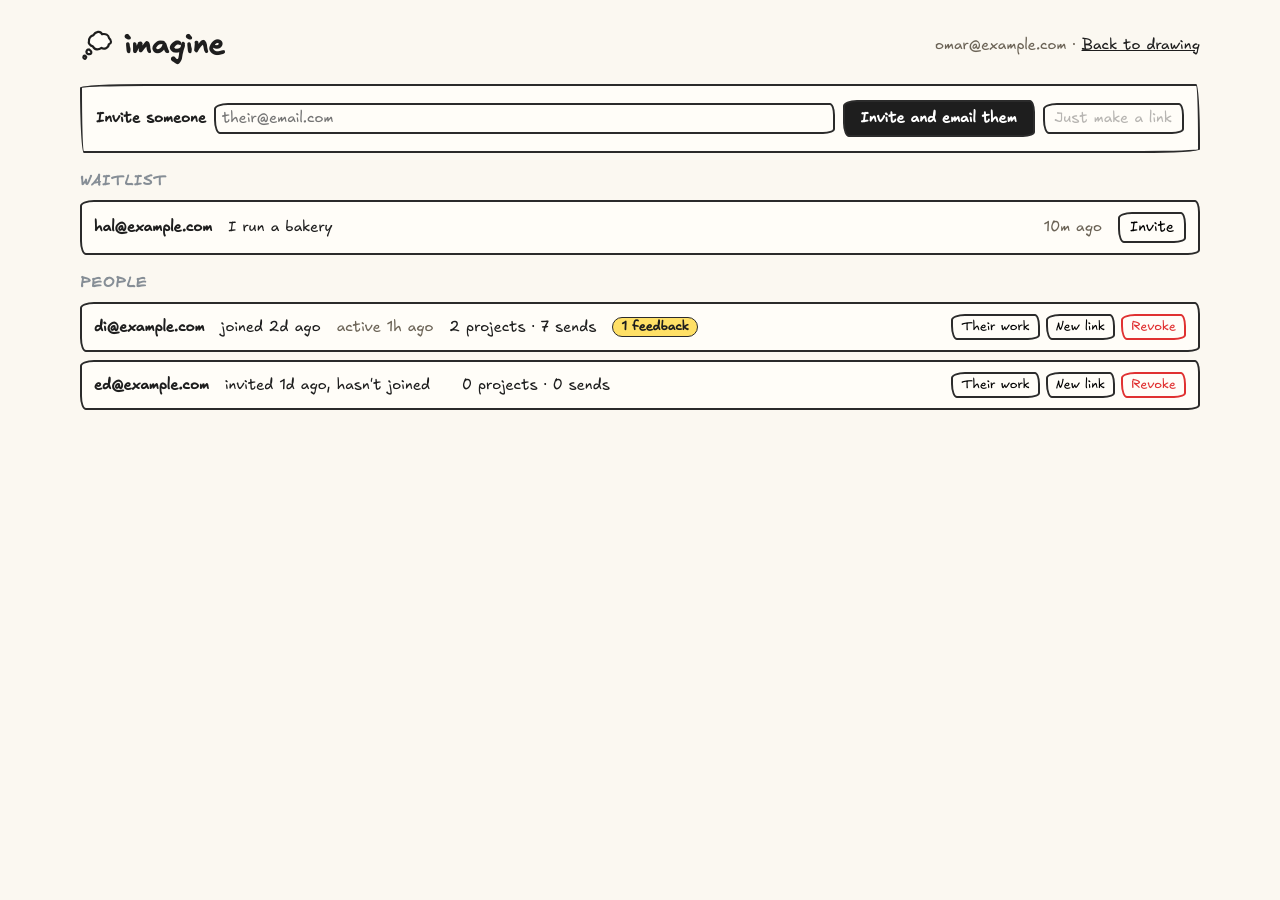
Test case: the admin's page › shows who sent feedback, and opens it with the version of the drawing it was sent on
Expected: the list item that starts with "di@example.com" shows "1 feedback", left=80, top=302, right=1200, bottom=352
Expected: the text "feedback" is not shown
Click the button with class "ad-open" in the row of "feedback".
click(996, 327)  # box left=951, top=314, right=1040, bottom=340
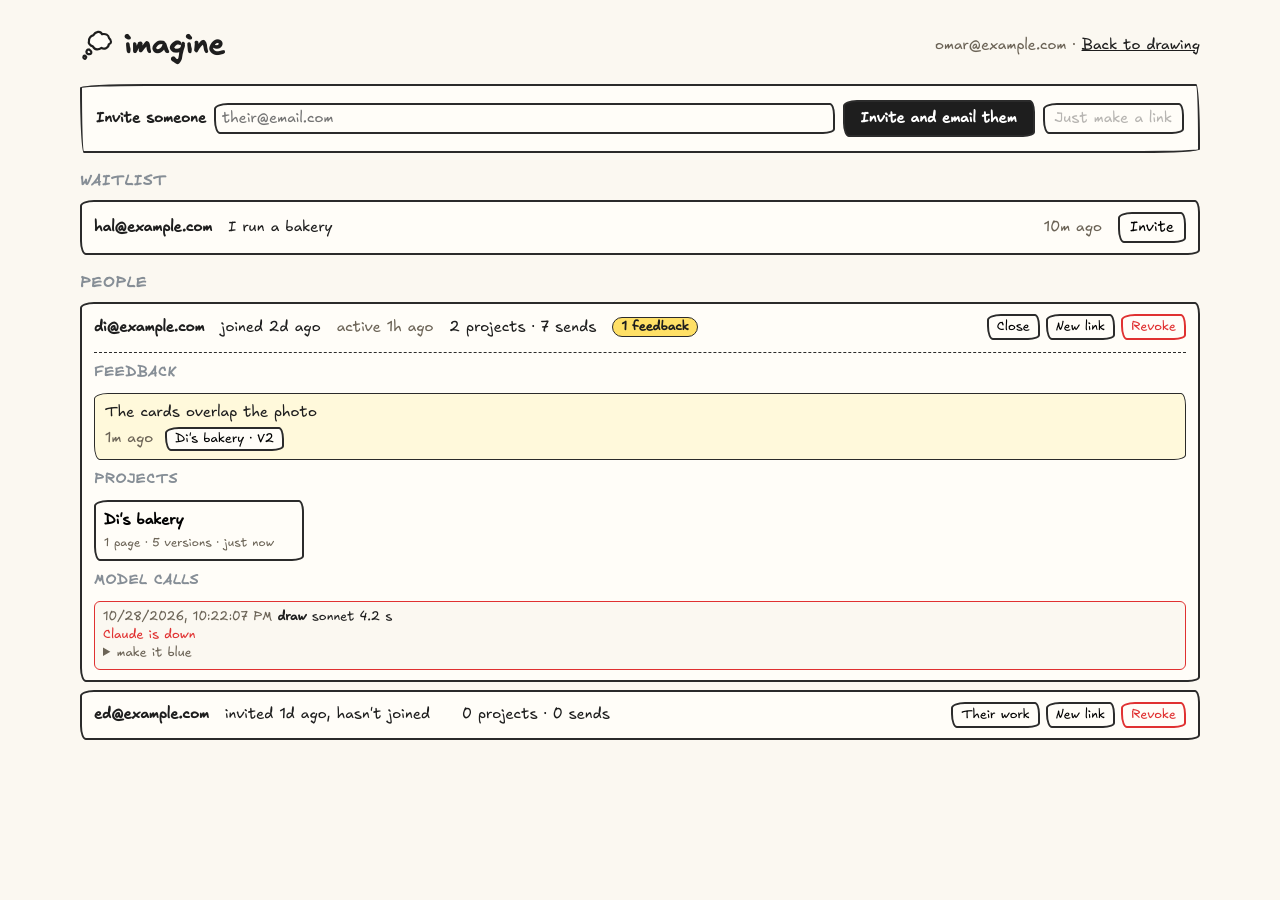
Now the list with class "ad-feedback" shows "The cards overlap the photo", box left=105, top=403, right=317, bottom=422
Click the button "Di's bakery · V2".
click(225, 439)  # box left=165, top=427, right=284, bottom=451
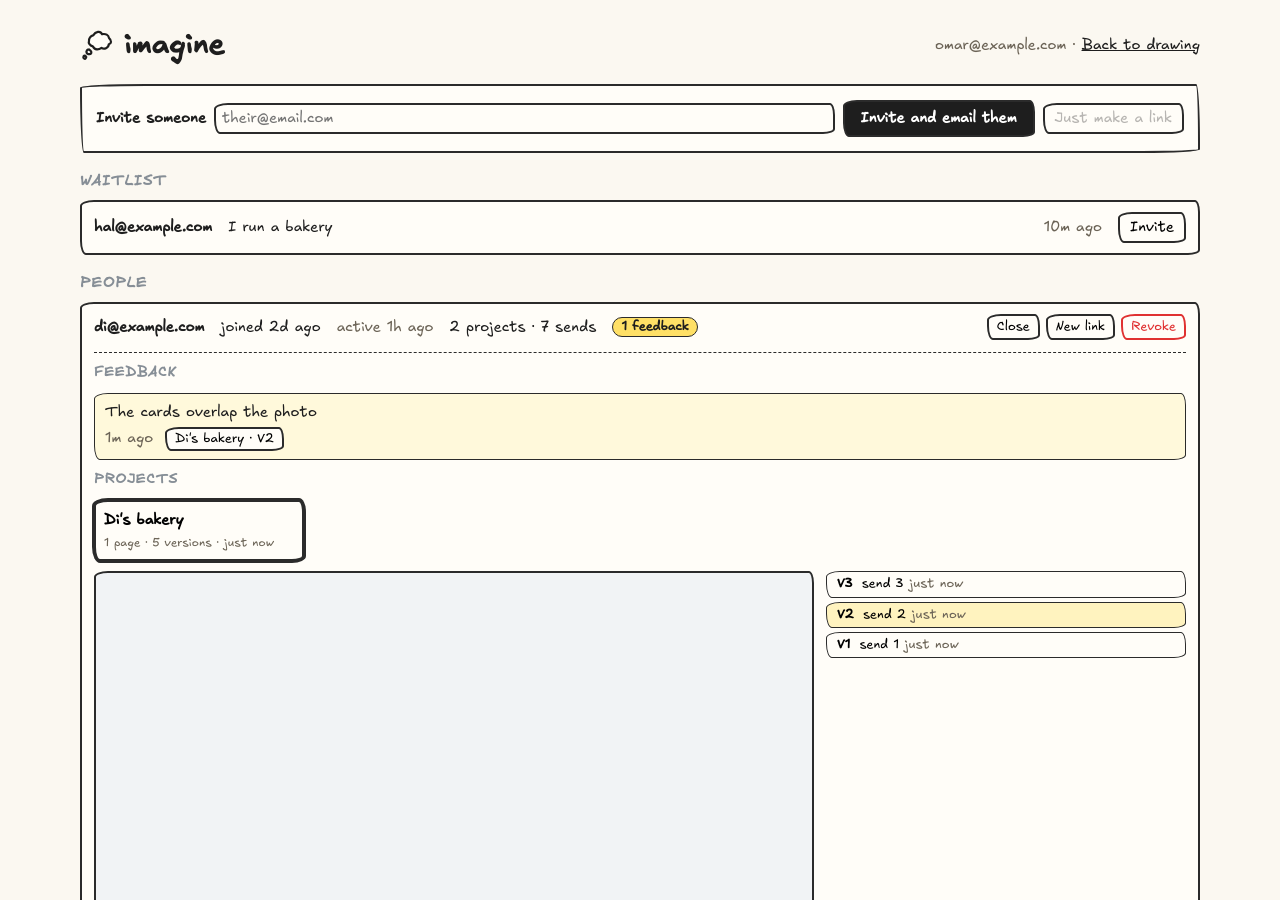
Now the button "V2 send 2 just now" is shown, box left=826, top=602, right=1186, bottom=628
